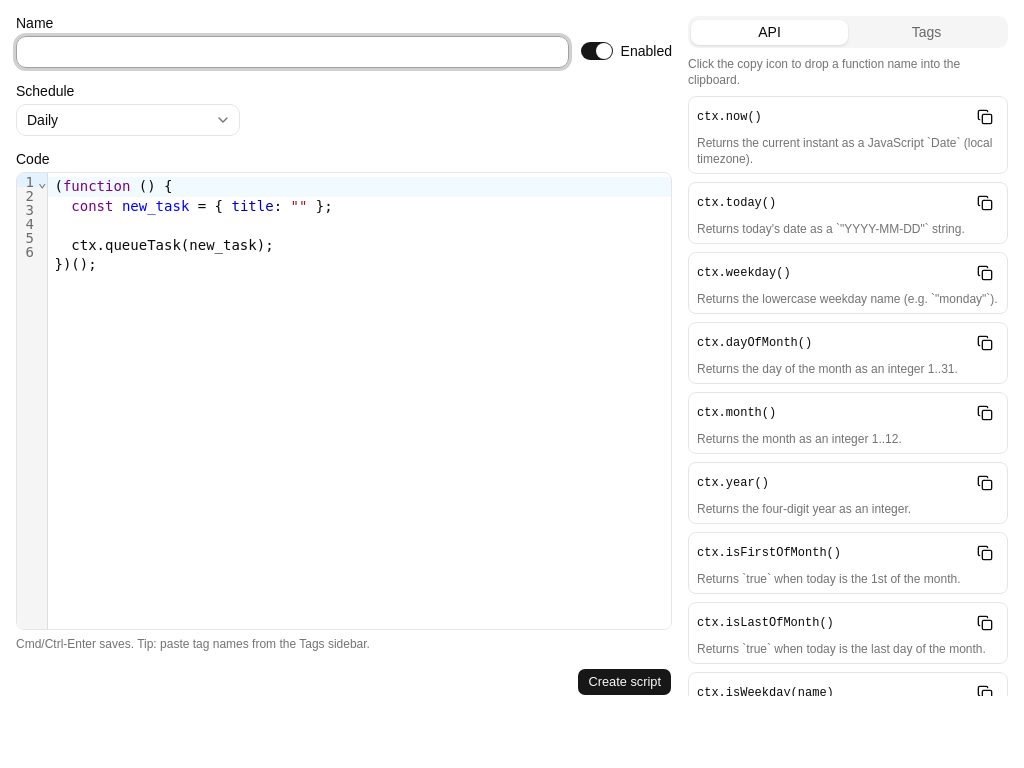
Test: ScriptEditorPage (new mode) › shows a validation error when the name is empty
Check: the field labelled "Name" is shown, box [16,36,569,68]
Click the button "Create script": coordinates (625, 682) [578,668,672,696]
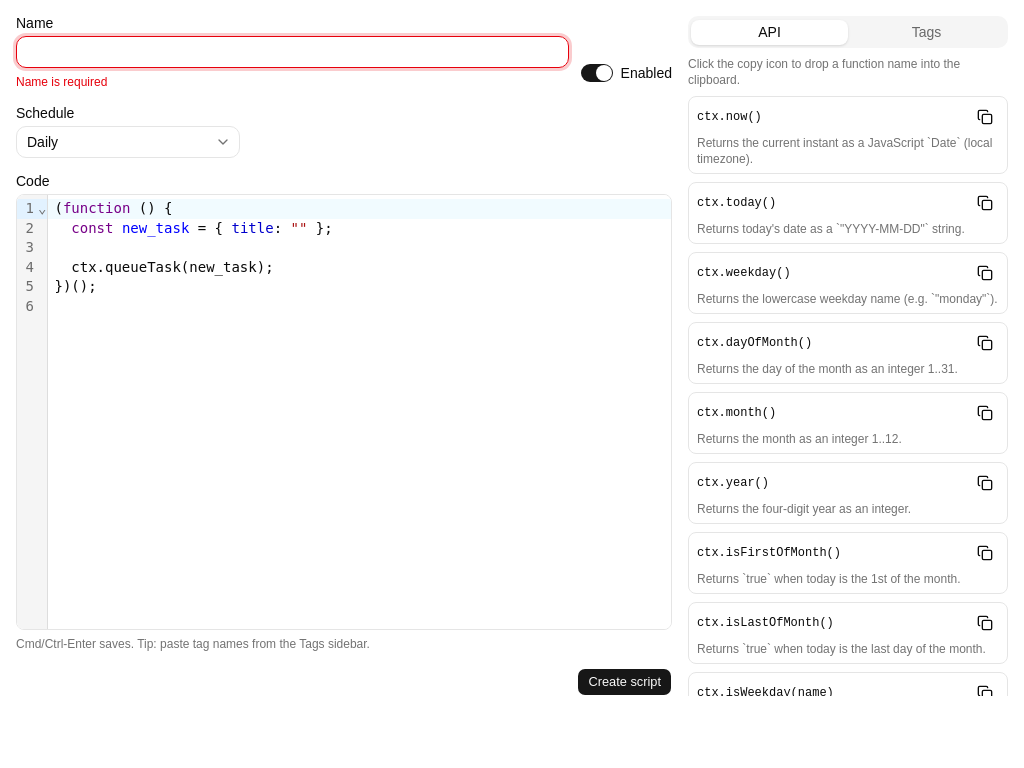
Check: the text "Name is required" is shown, box [16,75,107,89]
